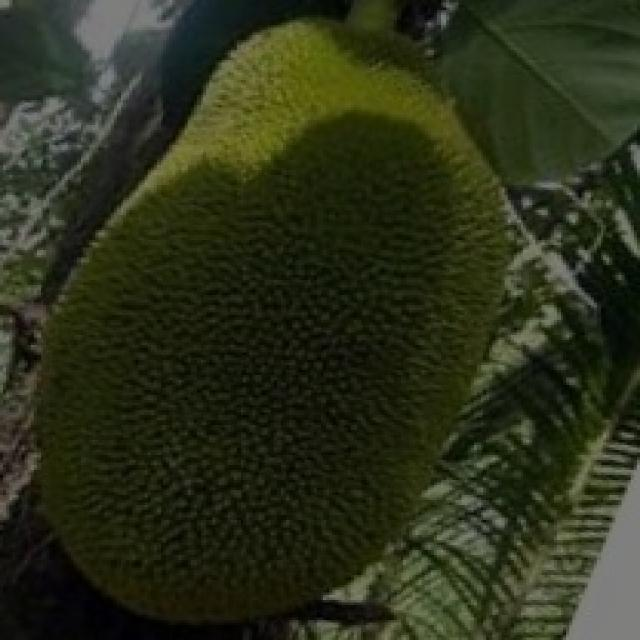Fruit: (3, 230, 425, 638)
